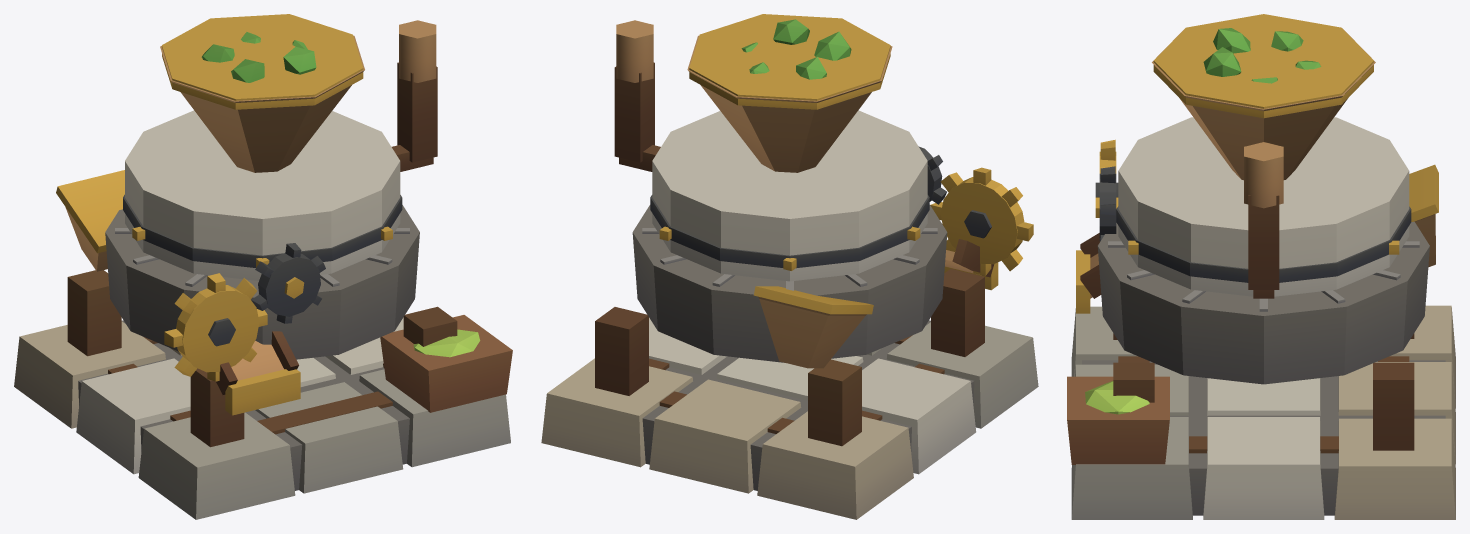
The model's file is mach_grinder.glb.
The picture shows the model from 3 angles, left to right: view 1: azimuth 30°, elevation 25°; view 2: azimuth 150°, elevation 25°; view 3: azimuth 270°, elevation 25°; orthographic projection. The views are drawn at different scales.
Visible parts, largest first — view 1: mach_grinder; view 2: mach_grinder; view 3: mach_grinder.
Part boxes in pixels (bbox=[...]): mach_grinder: bbox=[14, 14, 512, 519]; mach_grinder: bbox=[541, 14, 1038, 519]; mach_grinder: bbox=[1067, 14, 1455, 519].
Bounding box in the file's own units: 4.02 × 4.2 × 3.75.
1 material, 1 textured.
